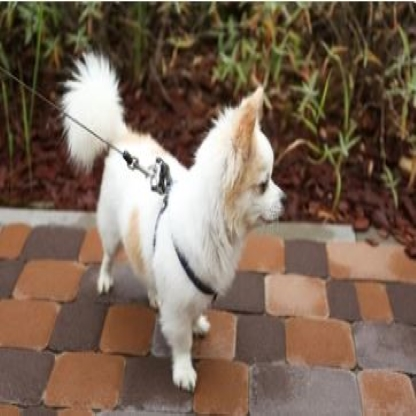chihuahua: (53, 46, 287, 393)
